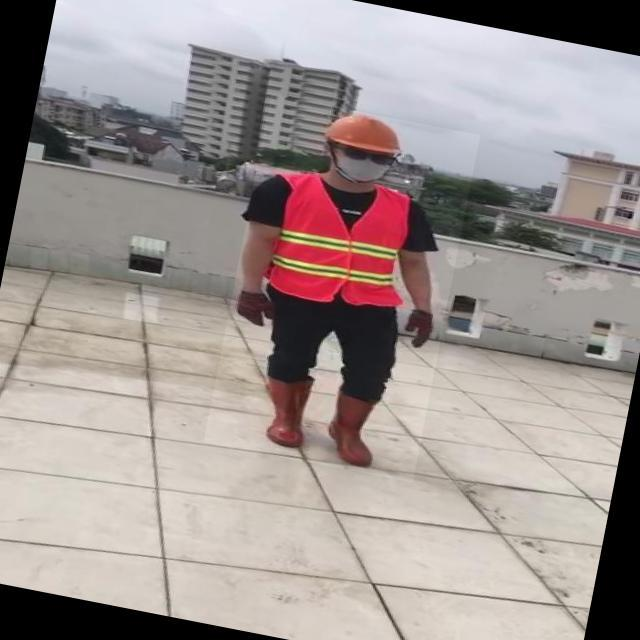Helmet: (321, 106, 412, 161)
Human: (204, 95, 482, 484)
Safety Boot: (319, 389, 393, 469), (255, 373, 319, 451)
Safety Vest: (265, 169, 420, 313)
